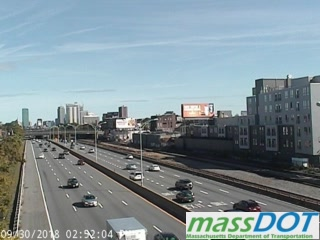car: (106, 217, 147, 240), (233, 199, 262, 212), (175, 190, 195, 202), (81, 193, 98, 207), (175, 179, 194, 189), (67, 177, 81, 188), (153, 234, 178, 240), (147, 164, 161, 172), (129, 173, 144, 180), (125, 163, 137, 170), (125, 154, 134, 160), (75, 160, 84, 166), (58, 152, 65, 159), (62, 150, 70, 156), (37, 153, 45, 159), (87, 148, 95, 153), (79, 145, 86, 150), (51, 147, 56, 152), (38, 144, 43, 147), (47, 143, 50, 148)
